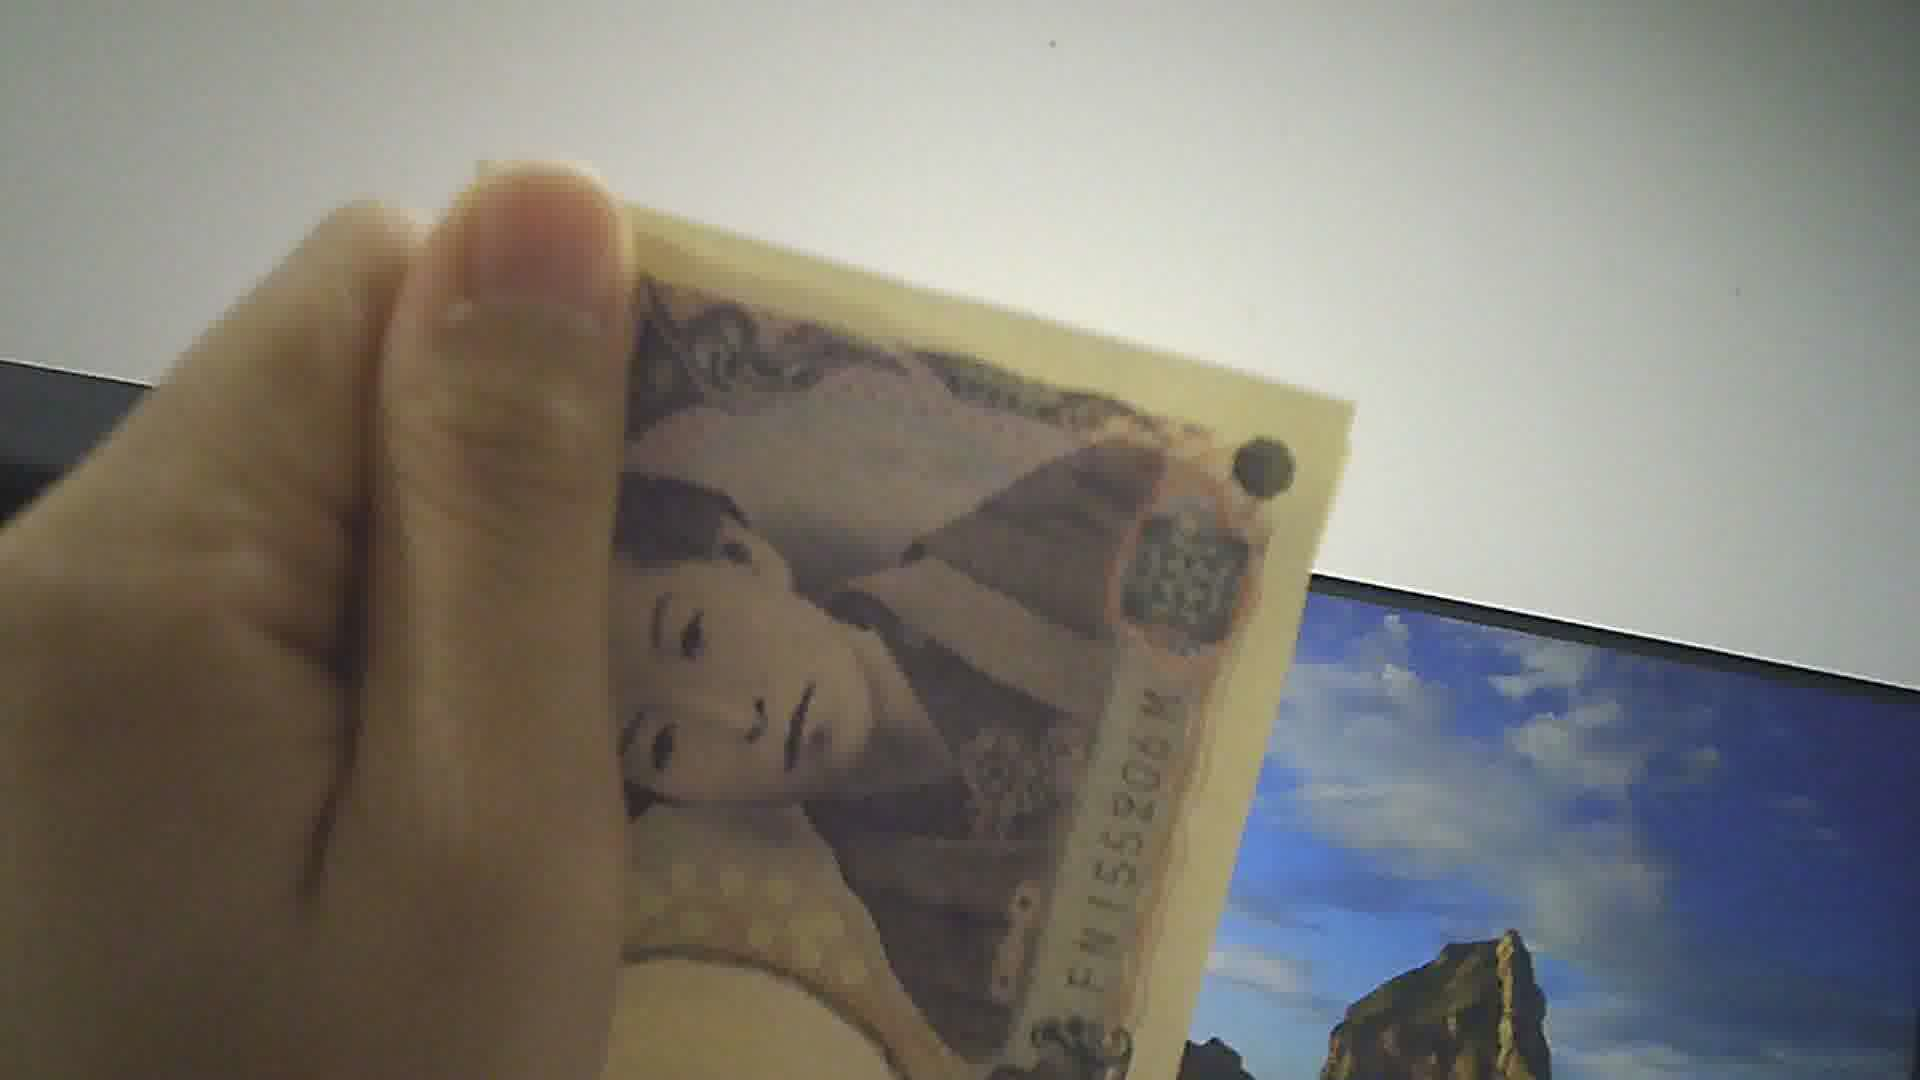5,000 Yen: (476, 161, 1333, 1079)
